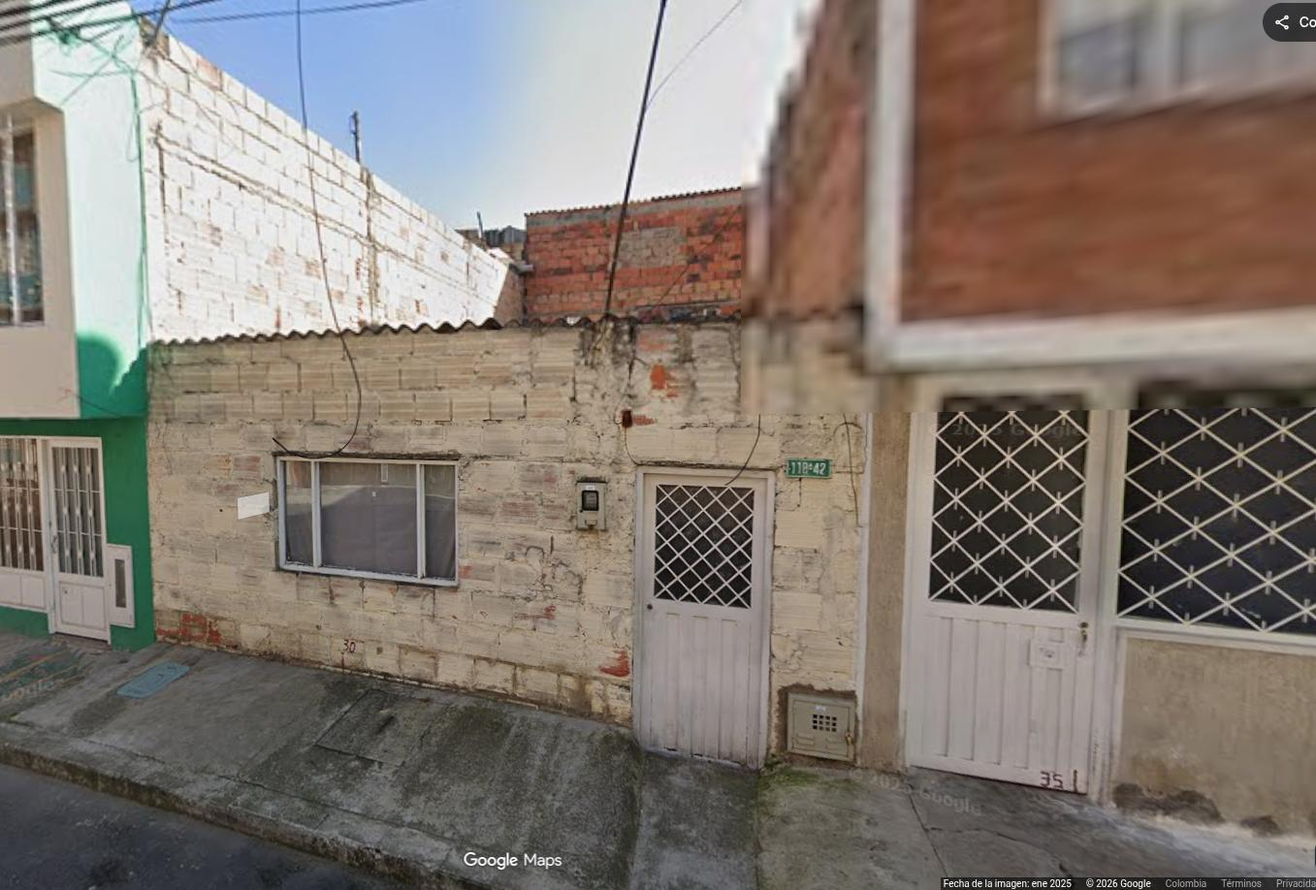casa: (150, 321, 865, 764), (934, 446, 1013, 583)
